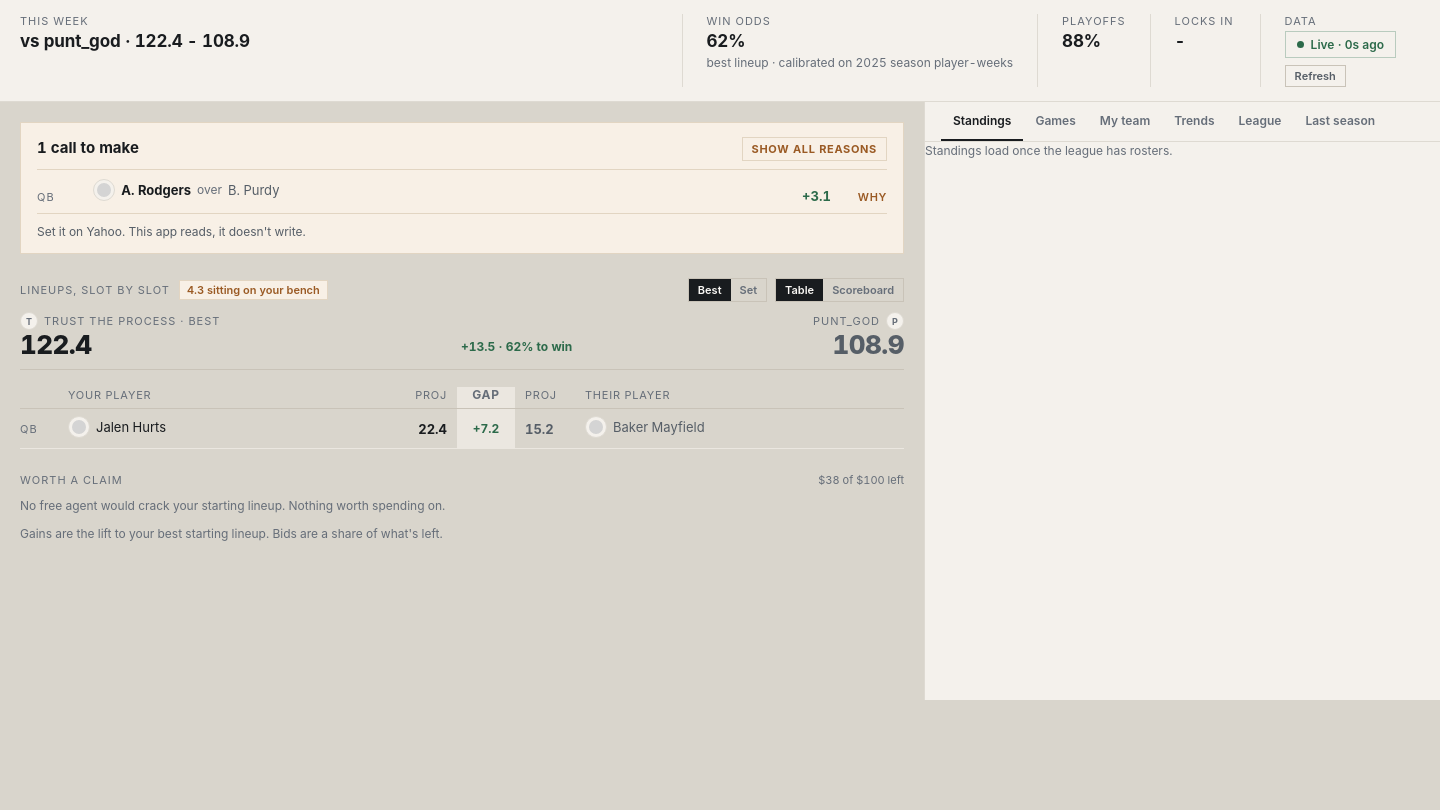
Scenario: a Yahoo league › names Yahoo, not Sleeper, everywhere the service is named
The width and height of the screenshot is (1440, 810).
Expected: the text "Set it on Yahoo. This app reads, it doesn't write." is shown, [37,213,887,239]
Click the tab "My team": coordinates (1125, 122) [1088,102,1162,141]
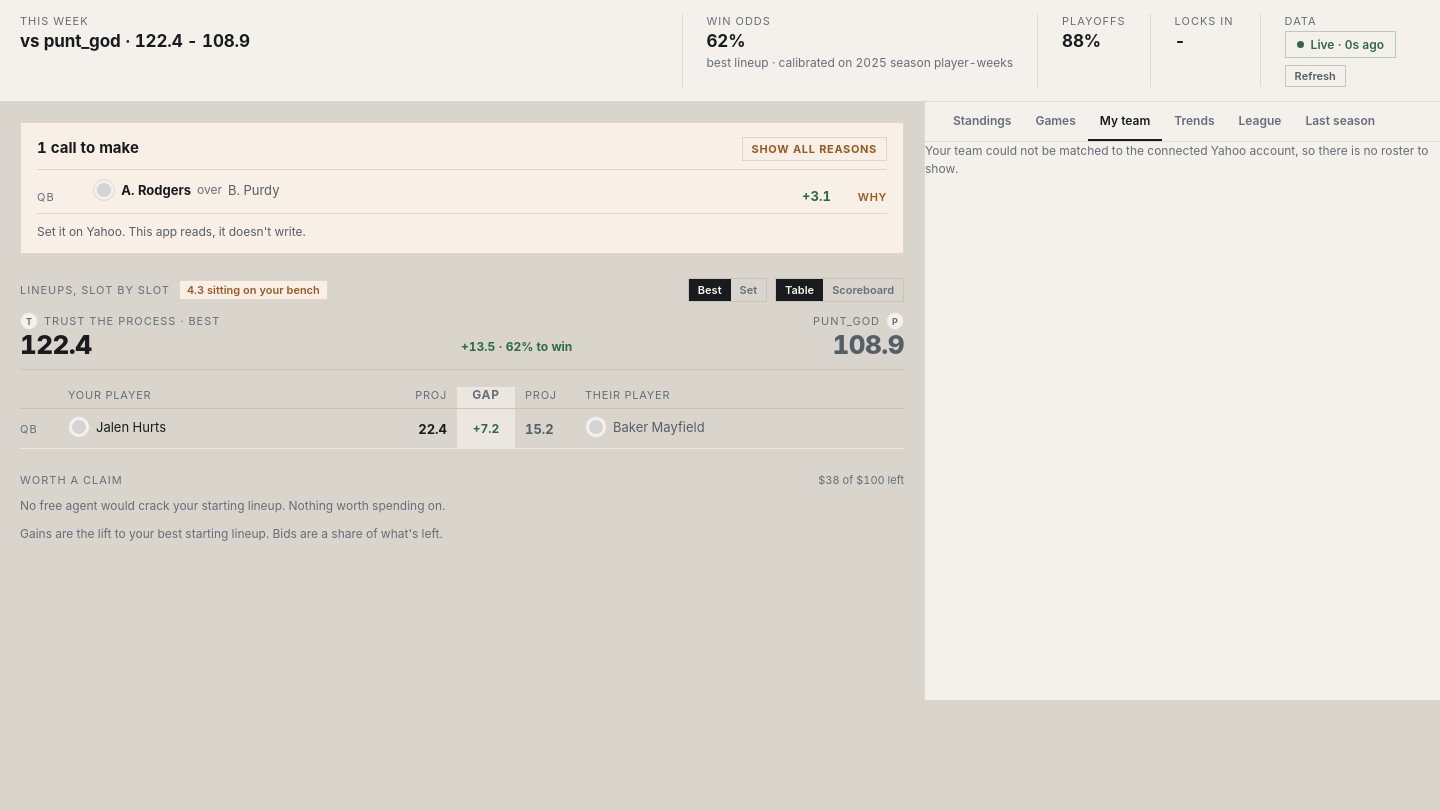
Expected: the text "connected Yahoo account" is shown, [925,143,1428,176]
